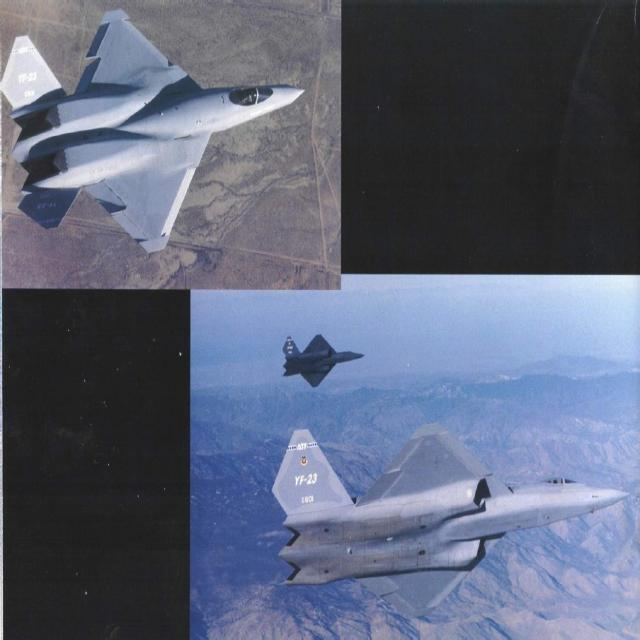MIL_Plane: (2, 8, 304, 254), (270, 421, 631, 620), (281, 333, 366, 388)
